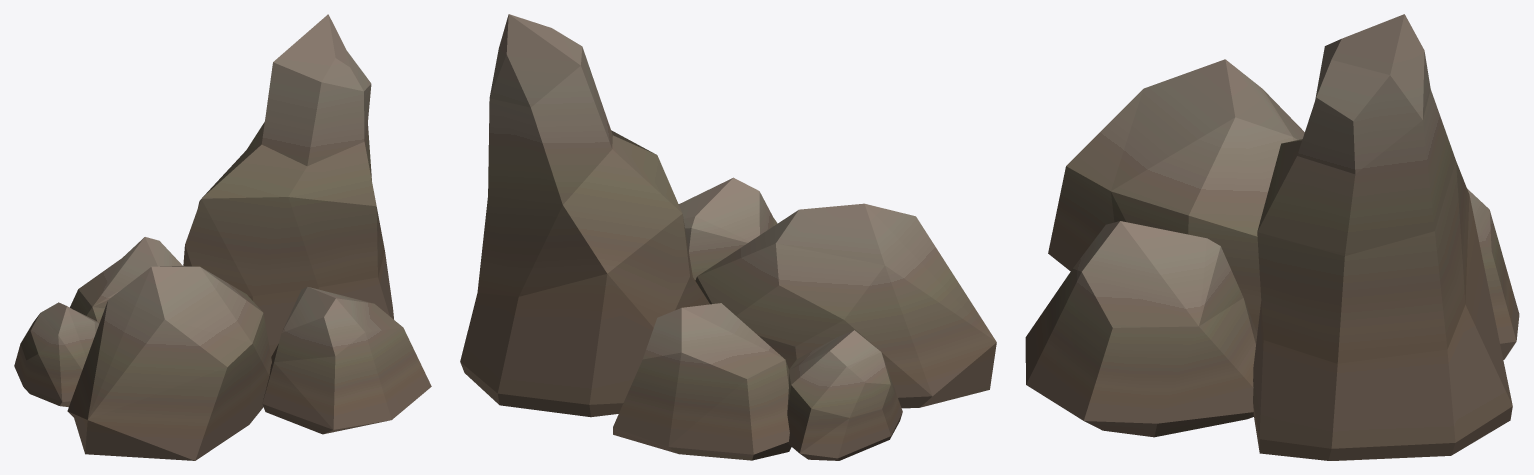
The model's file is rocks2.glb.
3 views of the same model, side by side, from view 1: azimuth 30°, elevation 25°; view 2: azimuth 150°, elevation 25°; view 3: azimuth 270°, elevation 25° (orthographic). The views are drawn at different scales.
Parts seen in each view (by area): view 1: rocks2; view 2: rocks2; view 3: rocks2.
Part boxes in pixels (x1,y1,x2,y2): rocks2: (14, 14, 431, 460); rocks2: (460, 14, 996, 460); rocks2: (1025, 14, 1519, 460).
Size of the model in its own units: 1.79 by 1.46 by 1.46.
1 material, 1 textured.
